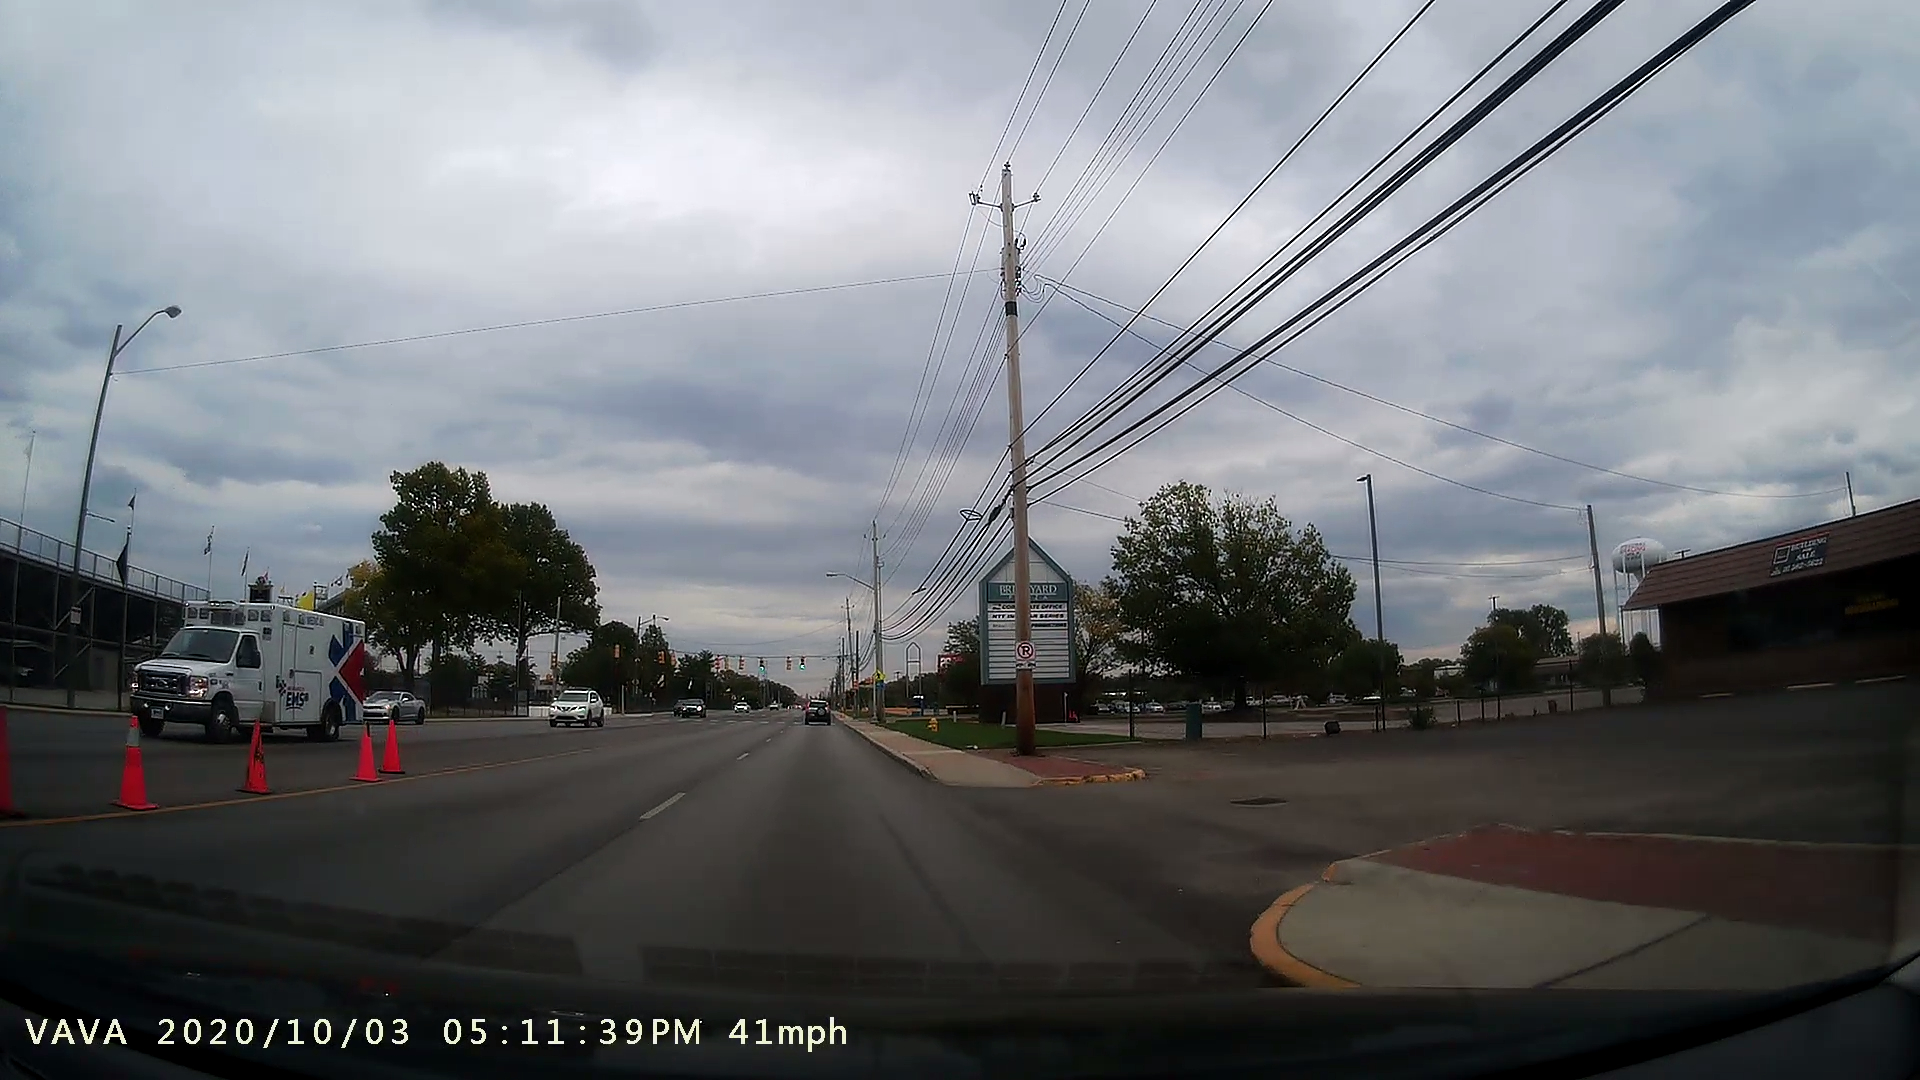const_cone: (105, 691, 161, 823), (229, 702, 280, 803), (339, 704, 385, 790), (381, 703, 413, 782)
